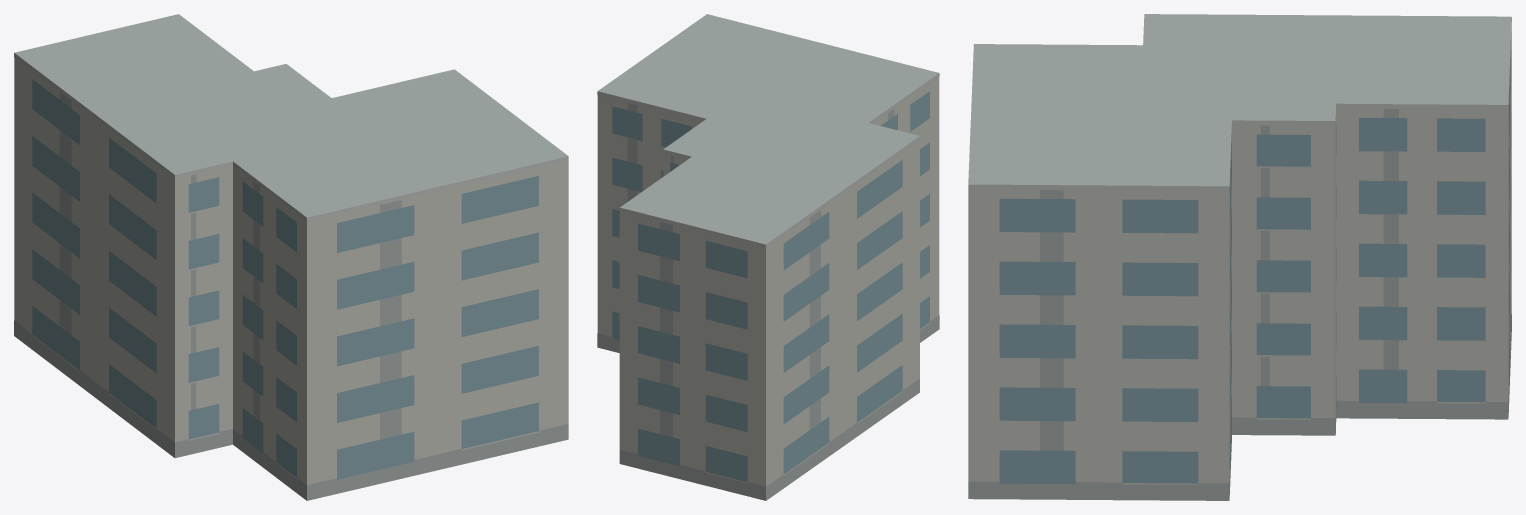
The model's file is residential-1f321939-a0b7-41b0-82ca-81096172e5b3.glb.
The picture shows the model from 3 angles, left to right: view 1: azimuth 30°, elevation 25°; view 2: azimuth 150°, elevation 25°; view 3: azimuth 270°, elevation 25°; orthographic projection. The views are drawn at different scales.
Parts seen in each view (by area): view 1: residential-1f321939-a0b7-41b0-82ca-81096172e5b3.tmp; view 2: residential-1f321939-a0b7-41b0-82ca-81096172e5b3.tmp; view 3: residential-1f321939-a0b7-41b0-82ca-81096172e5b3.tmp.
Part boxes in pixels (x1=…): residential-1f321939-a0b7-41b0-82ca-81096172e5b3.tmp: x1=14, y1=14, x2=568, y2=500; residential-1f321939-a0b7-41b0-82ca-81096172e5b3.tmp: x1=597, y1=14, x2=939, y2=500; residential-1f321939-a0b7-41b0-82ca-81096172e5b3.tmp: x1=968, y1=14, x2=1511, y2=500.
Bounding box in the file's own units: 17.93 × 15.25 × 23.89.
